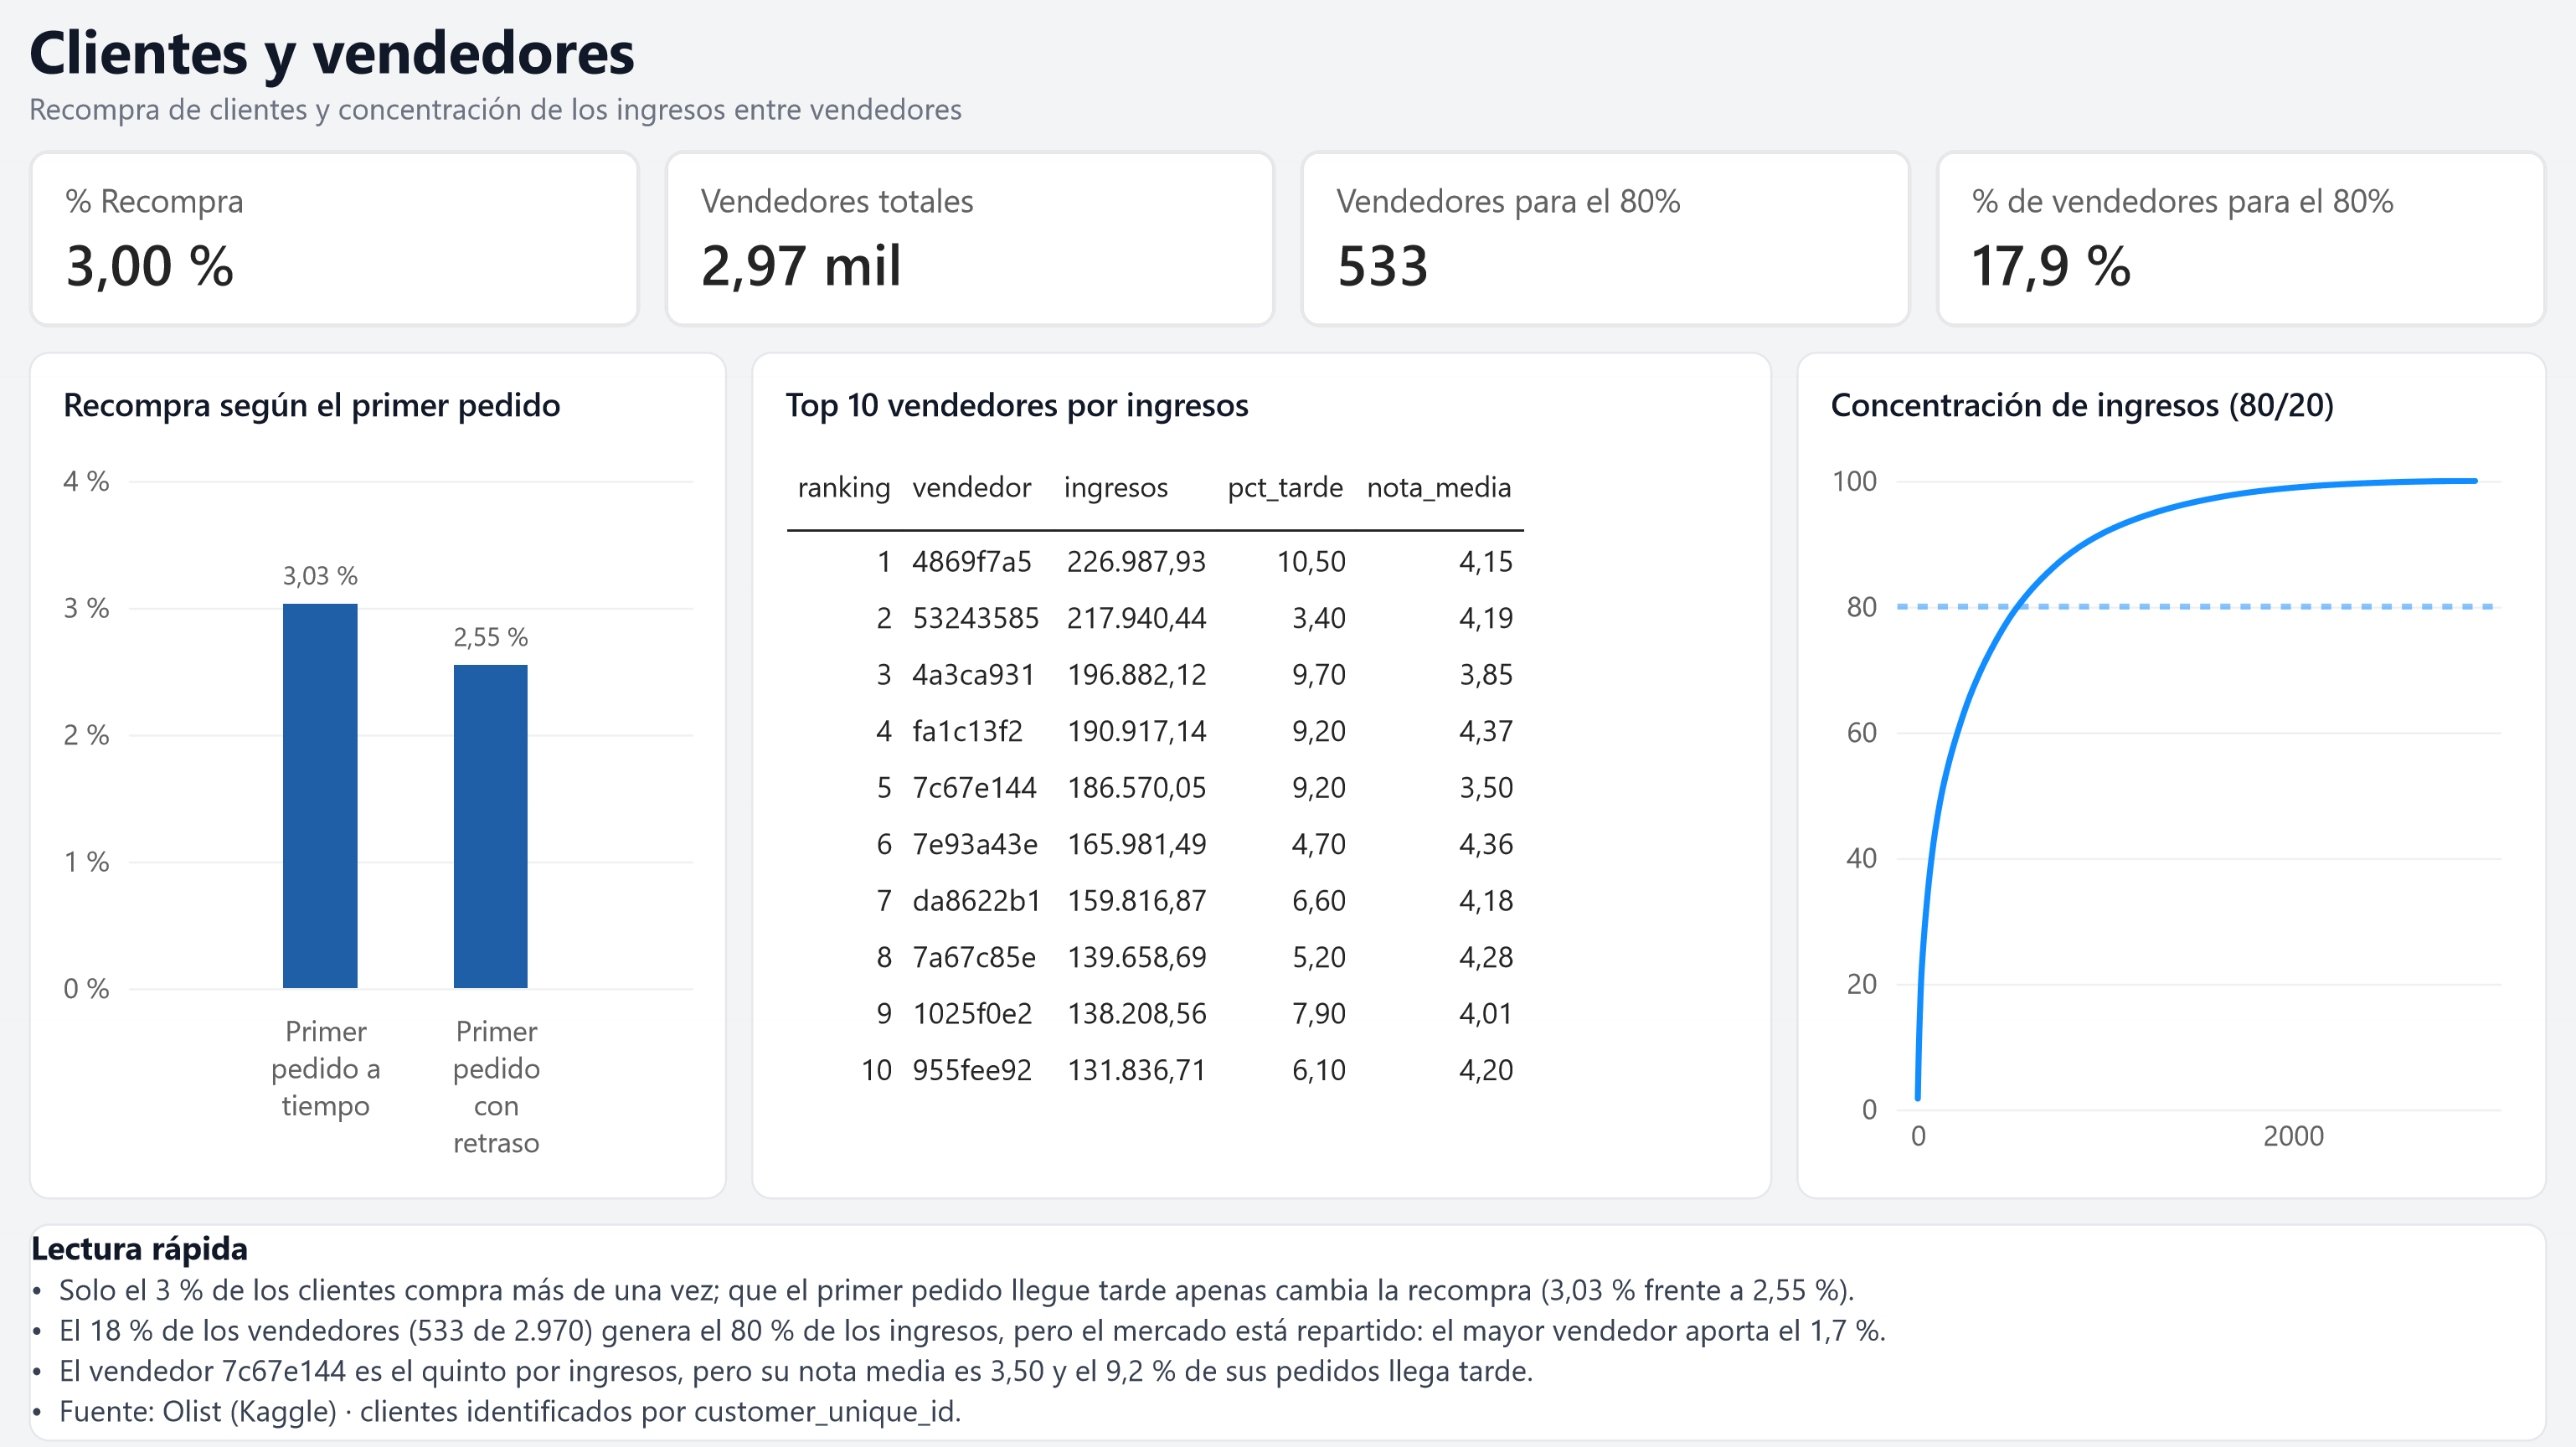

The page's visual inventory and layout, read from the dashboard file:
{"tool":"powerbi","page":{"name":"Clientes y vendedores","canvas":[1280,720],"ordinal":2},"visuals":[{"type":"cardVisual","fields":{"Data":["Clientes.% Recompra"]},"box":[16,76,303,88],"z":0},{"type":"clusteredColumnChart","title":"Recompra según el primer pedido","fields":{"Category":["Clientes.primer_pedido"],"Y":["Clientes.% Recompra"]},"box":[16,176,346,420],"z":1000},{"type":"cardVisual","fields":{"Data":["Vendedores.% de vendedores para el 80%"]},"box":[961,76,303,88],"z":2000},{"type":"cardVisual","fields":{"Data":["Vendedores.Vendedores para el 80%"]},"box":[646,76,303,88],"z":3000},{"type":"cardVisual","fields":{"Data":["Vendedores.Vendedores totales"]},"box":[331,76,303,88],"z":4000},{"type":"tableEx","title":"Top 10 vendedores por ingresos","fields":{"Values":["Vendedores.ranking","Vendedores.vendedor","Vendedores.ingresos","Vendedores.pct_tarde","Vendedores.nota_media"]},"box":[374,176,506,420],"z":5000},{"type":"lineChart","title":"Concentración de ingresos (80/20)","fields":{"Category":["Vendedores.ranking"],"Y":["Max(Vendedores.pct_acumulado)"]},"box":[892,176,372,420],"z":6000},{"type":"textbox","box":[16,6,980,60],"z":9000},{"type":"textbox","box":[16,608,1248,108],"z":9100}]}

Visuals, with their boxes in screenshot pixels (x1, y1, x2, y2), scaled from the page's 1280x720 canvas onto the 2576x1447 screenshot:
cardVisual - Clientes.% Recompra: x1=32 y1=152 x2=642 y2=330
"Recompra según el primer pedido" clusteredColumnChart: x1=32 y1=353 x2=729 y2=1197
cardVisual - Vendedores.% de vendedores para el 80%: x1=1934 y1=152 x2=2544 y2=330
cardVisual - Vendedores.Vendedores para el 80%: x1=1300 y1=152 x2=1910 y2=330
cardVisual - Vendedores.Vendedores totales: x1=666 y1=152 x2=1276 y2=330
"Top 10 vendedores por ingresos" tableEx: x1=753 y1=353 x2=1771 y2=1197
"Concentración de ingresos (80/20)" lineChart: x1=1795 y1=353 x2=2544 y2=1197
textbox: x1=32 y1=12 x2=2005 y2=132
textbox: x1=32 y1=1222 x2=2544 y2=1439
